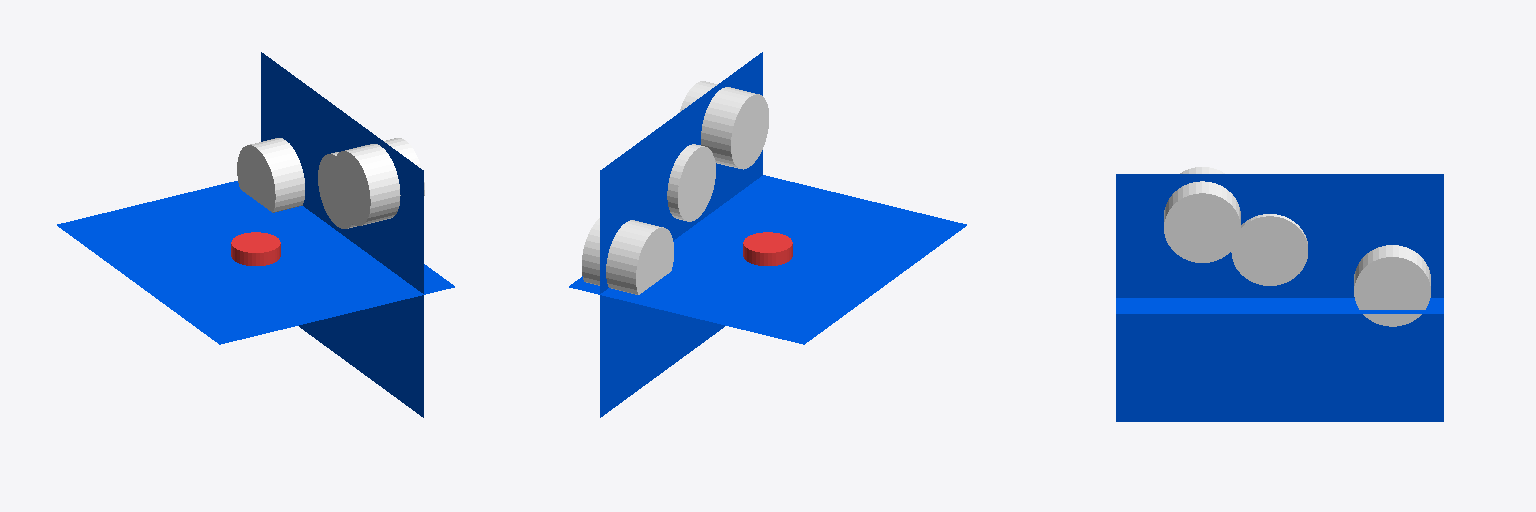
3 views of the same model, side by side, from view 1: azimuth 30°, elevation 25°; view 2: azimuth 150°, elevation 25°; view 3: azimuth 270°, elevation 25° (orthographic).
Visible parts, largest first — view 1: Plan, Plan.1, Cylindre.2, Cylindre.3, Cylindre, Cylindre.1; view 2: Plan, Plan.1, Cylindre.3, Cylindre.2, Cylindre.1, Cylindre; view 3: Plan.1, Cylindre.2, Cylindre.3, Plan, Cylindre.1.
Boxes of the visible parts, x1=… form: Plan: x1=57, y1=181, x2=454, y2=344; Plan.1: x1=261, y1=52, x2=423, y2=417; Cylindre.2: x1=332, y1=138, x2=424, y2=225; Cylindre.3: x1=237, y1=138, x2=304, y2=212; Cylindre: x1=231, y1=232, x2=280, y2=265; Cylindre.1: x1=318, y1=152, x2=356, y2=228; Plan: x1=569, y1=175, x2=966, y2=344; Plan.1: x1=600, y1=52, x2=762, y2=417; Cylindre.3: x1=582, y1=218, x2=673, y2=294; Cylindre.2: x1=679, y1=81, x2=768, y2=169; Cylindre.1: x1=667, y1=144, x2=715, y2=221; Cylindre: x1=743, y1=232, x2=792, y2=265; Plan.1: x1=1116, y1=174, x2=1443, y2=421; Cylindre.2: x1=1164, y1=167, x2=1240, y2=262; Cylindre.3: x1=1354, y1=245, x2=1430, y2=326; Plan: x1=1116, y1=298, x2=1443, y2=313; Cylindre.1: x1=1231, y1=214, x2=1307, y2=285.
Bounding box in the file's own units: 553 × 553 × 664.